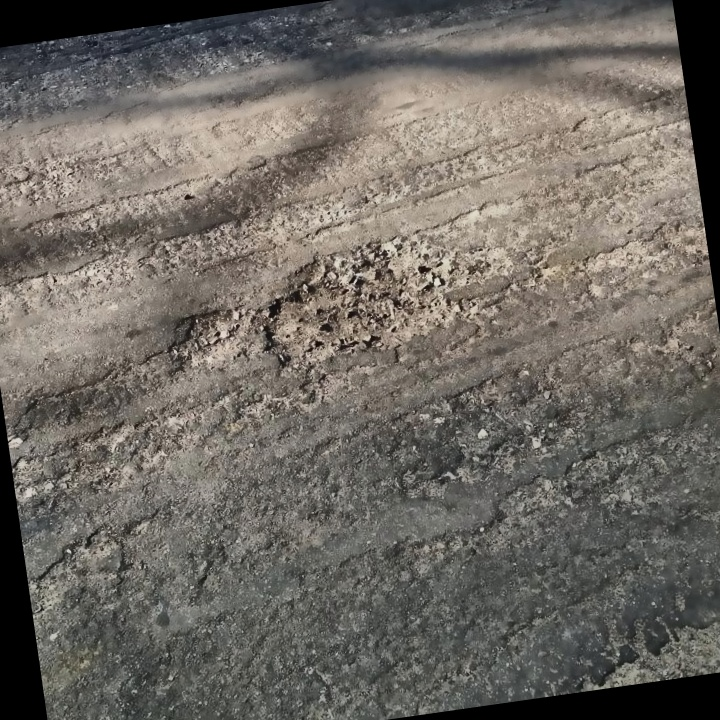pothole: (250, 235, 464, 368), (167, 300, 264, 375)
